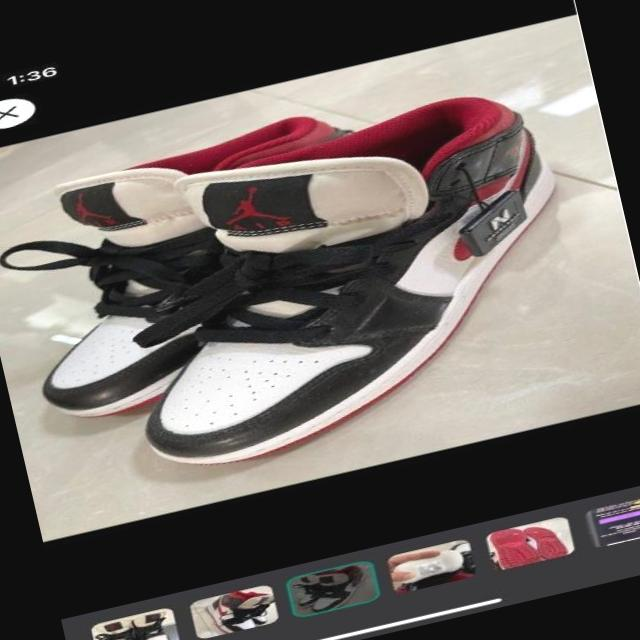nike_fake_jordan: (81, 66, 640, 480), (0, 100, 406, 433)
